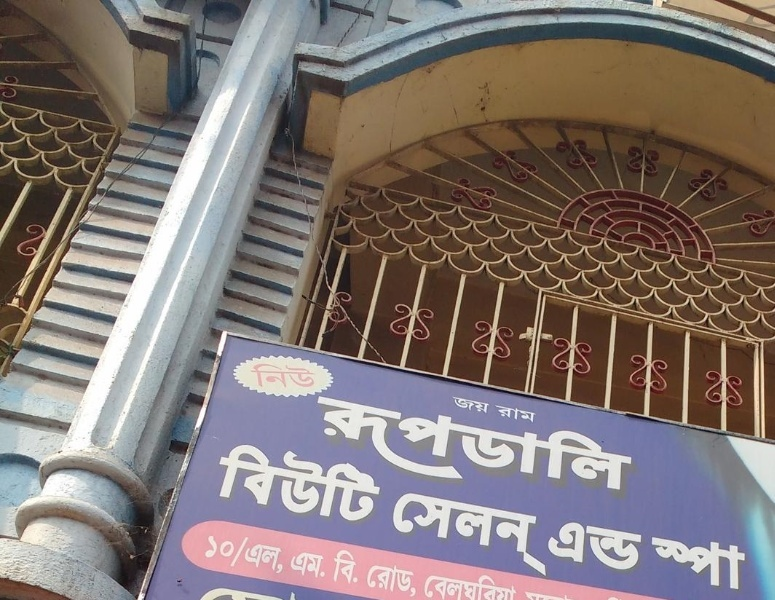text: (321, 392, 336, 502), (337, 392, 352, 502), (353, 392, 368, 502), (369, 392, 384, 502), (385, 392, 400, 502), (401, 392, 416, 502), (417, 392, 432, 502), (433, 392, 448, 502), (449, 392, 464, 502), (465, 392, 480, 502), (481, 392, 496, 502), (497, 392, 512, 502), (513, 392, 528, 502), (529, 392, 544, 502), (545, 392, 560, 502), (561, 392, 576, 502), (577, 392, 592, 502), (593, 392, 608, 502), (609, 392, 624, 502), (241, 437, 256, 526), (257, 437, 272, 526), (273, 437, 288, 526), (289, 437, 304, 526), (305, 437, 320, 526), (321, 437, 336, 526), (337, 437, 352, 526), (353, 437, 368, 526), (369, 437, 384, 526), (401, 489, 416, 577), (417, 489, 432, 577), (433, 489, 448, 577), (449, 489, 464, 577), (465, 489, 480, 577), (481, 489, 496, 577), (497, 489, 512, 577), (513, 489, 528, 577), (529, 489, 544, 577), (226, 437, 240, 526), (625, 392, 636, 502), (657, 534, 672, 591), (673, 534, 688, 591), (689, 534, 704, 591), (705, 534, 720, 591), (721, 534, 736, 591), (625, 518, 641, 571), (561, 518, 576, 571), (577, 518, 592, 571), (593, 518, 608, 571), (609, 518, 624, 571), (273, 530, 289, 576), (225, 530, 240, 576), (241, 530, 256, 576), (257, 530, 272, 576), (737, 534, 749, 591), (210, 530, 224, 576), (337, 547, 352, 586), (385, 560, 400, 598), (401, 560, 416, 598), (371, 560, 384, 598), (353, 547, 365, 586), (305, 551, 320, 580), (257, 362, 272, 388), (273, 362, 288, 388), (289, 362, 304, 388), (433, 574, 448, 600), (449, 574, 464, 600), (465, 574, 480, 600), (481, 574, 496, 600), (497, 574, 512, 600), (305, 362, 317, 388), (497, 404, 512, 424), (513, 404, 528, 424), (651, 534, 656, 591), (465, 396, 480, 415), (545, 489, 548, 577), (295, 551, 304, 580), (453, 396, 464, 415), (513, 574, 521, 600), (321, 551, 328, 580), (481, 396, 491, 415), (417, 560, 422, 598), (425, 574, 432, 600), (385, 437, 387, 526), (529, 589, 544, 600), (545, 589, 560, 600), (250, 362, 256, 388), (529, 404, 535, 424), (561, 589, 571, 600), (558, 518, 560, 571), (399, 489, 400, 577), (524, 589, 528, 600)
